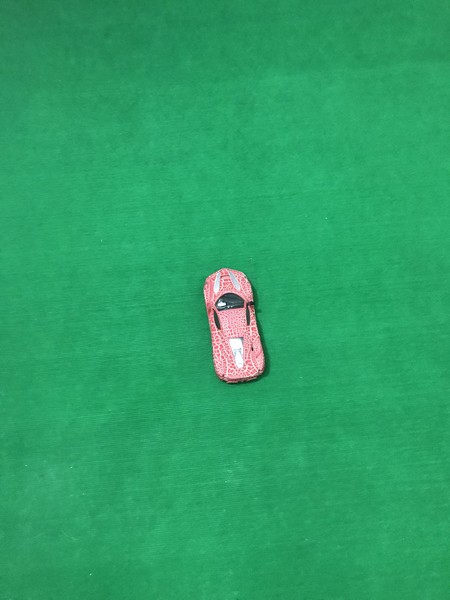RC: (201, 264, 271, 386)
